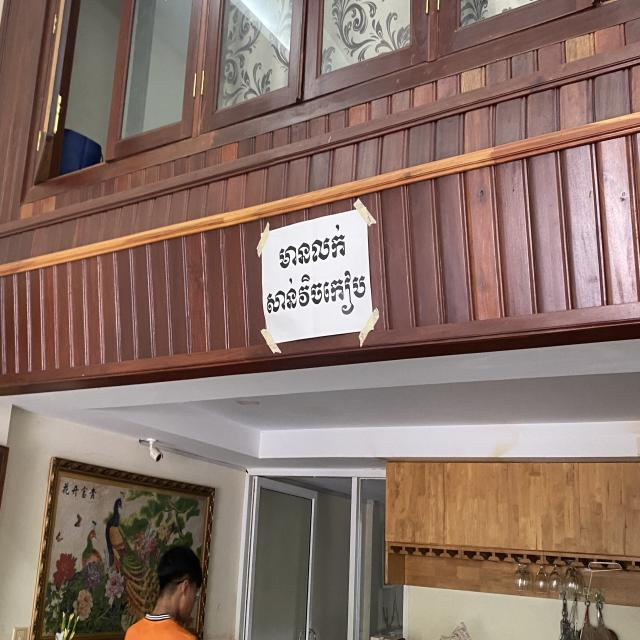Yolov11_80vkh: (264, 261, 372, 326), (277, 220, 349, 277)
